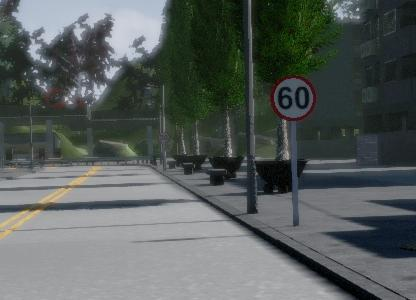Speed_60: (292, 69, 343, 121)
